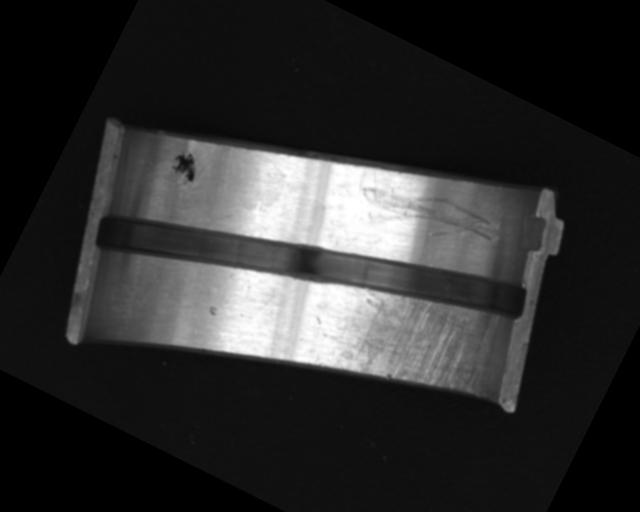blot: (164, 146, 204, 188)
bruise: (205, 302, 221, 318)
gap: (84, 103, 534, 432)
nick: (350, 159, 503, 272)
scratch: (307, 248, 516, 437)
